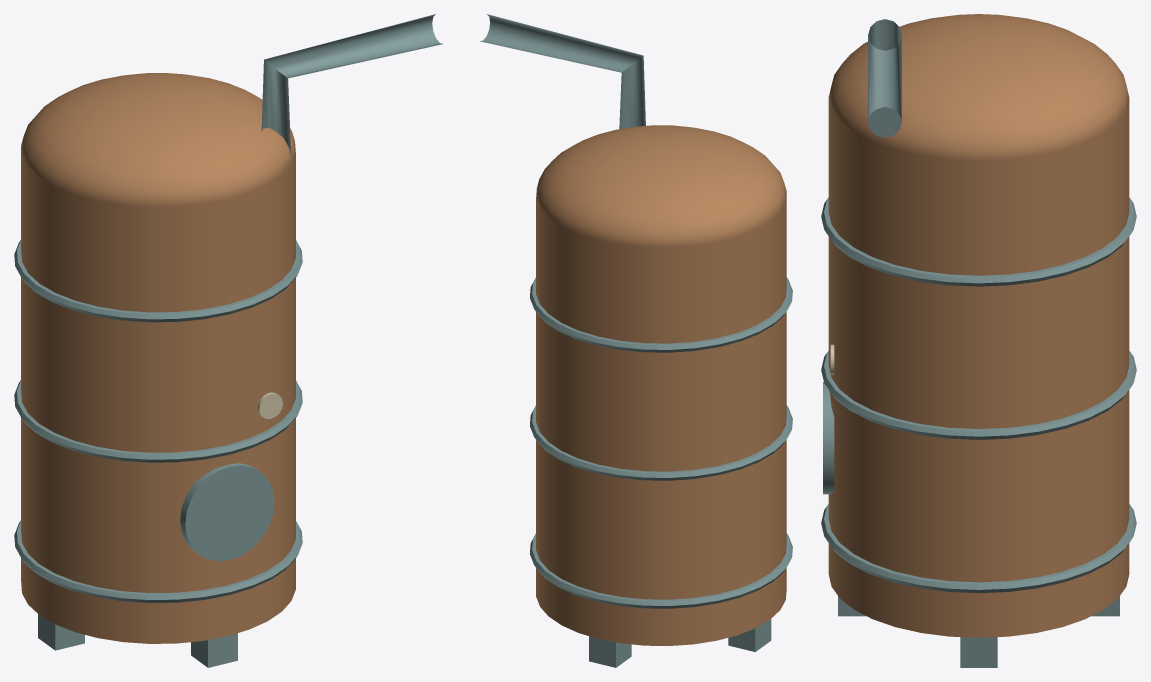
Rendered from boiler.glb.
The picture shows the model from 3 angles, left to right: view 1: azimuth 30°, elevation 25°; view 2: azimuth 150°, elevation 25°; view 3: azimuth 270°, elevation 25°; orthographic projection. The views are drawn at different scales.
Parts seen in each view (by area): view 1: boiler; view 2: boiler; view 3: boiler.
Part boxes in pixels (x1=…): boiler: x1=14, y1=14, x2=442, y2=667; boiler: x1=480, y1=14, x2=792, y2=667; boiler: x1=821, y1=14, x2=1136, y2=667.
Size of what is drawn, in the model's own units: 2.44 by 3.69 by 1.68.
